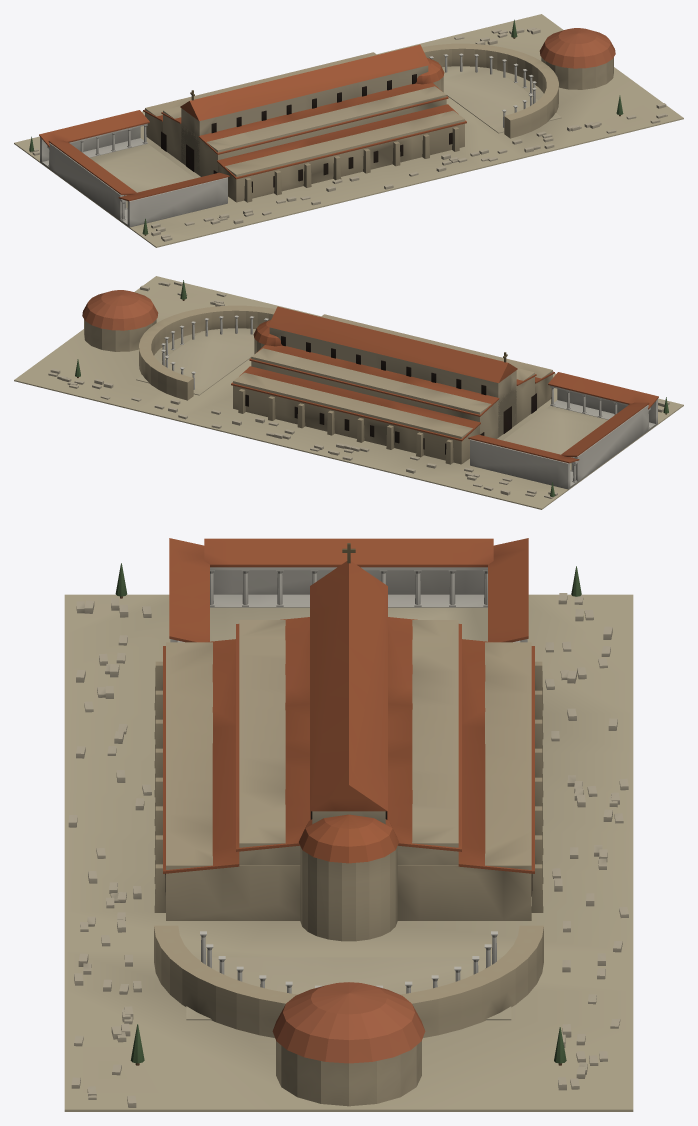
File: damous-el-karita.glb
3 renders of one model, top to bottom at view 1: azimuth 30°, elevation 25°; view 2: azimuth 150°, elevation 25°; view 3: azimuth 270°, elevation 25°, orthographic. The views are drawn at different scales.
Parts seen in each view (by area): view 1: p0_walls, p2_roofs, p1_porticoes; view 2: p0_walls, p2_roofs, p1_porticoes; view 3: p0_walls, p2_roofs, p1_porticoes.
Part boxes in pixels (x1,y1,x2,y2): p0_walls: (14, 14, 683, 247); p2_roofs: (29, 19, 667, 241); p1_porticoes: (39, 53, 613, 227); p0_walls: (14, 276, 683, 509); p2_roofs: (48, 280, 669, 498); p1_porticoes: (84, 315, 658, 489); p0_walls: (64, 594, 633, 1111); p2_roofs: (68, 543, 628, 1107); p1_porticoes: (154, 538, 543, 1106).
Bounding box in the file's own units: 150 × 21.5 × 70.
